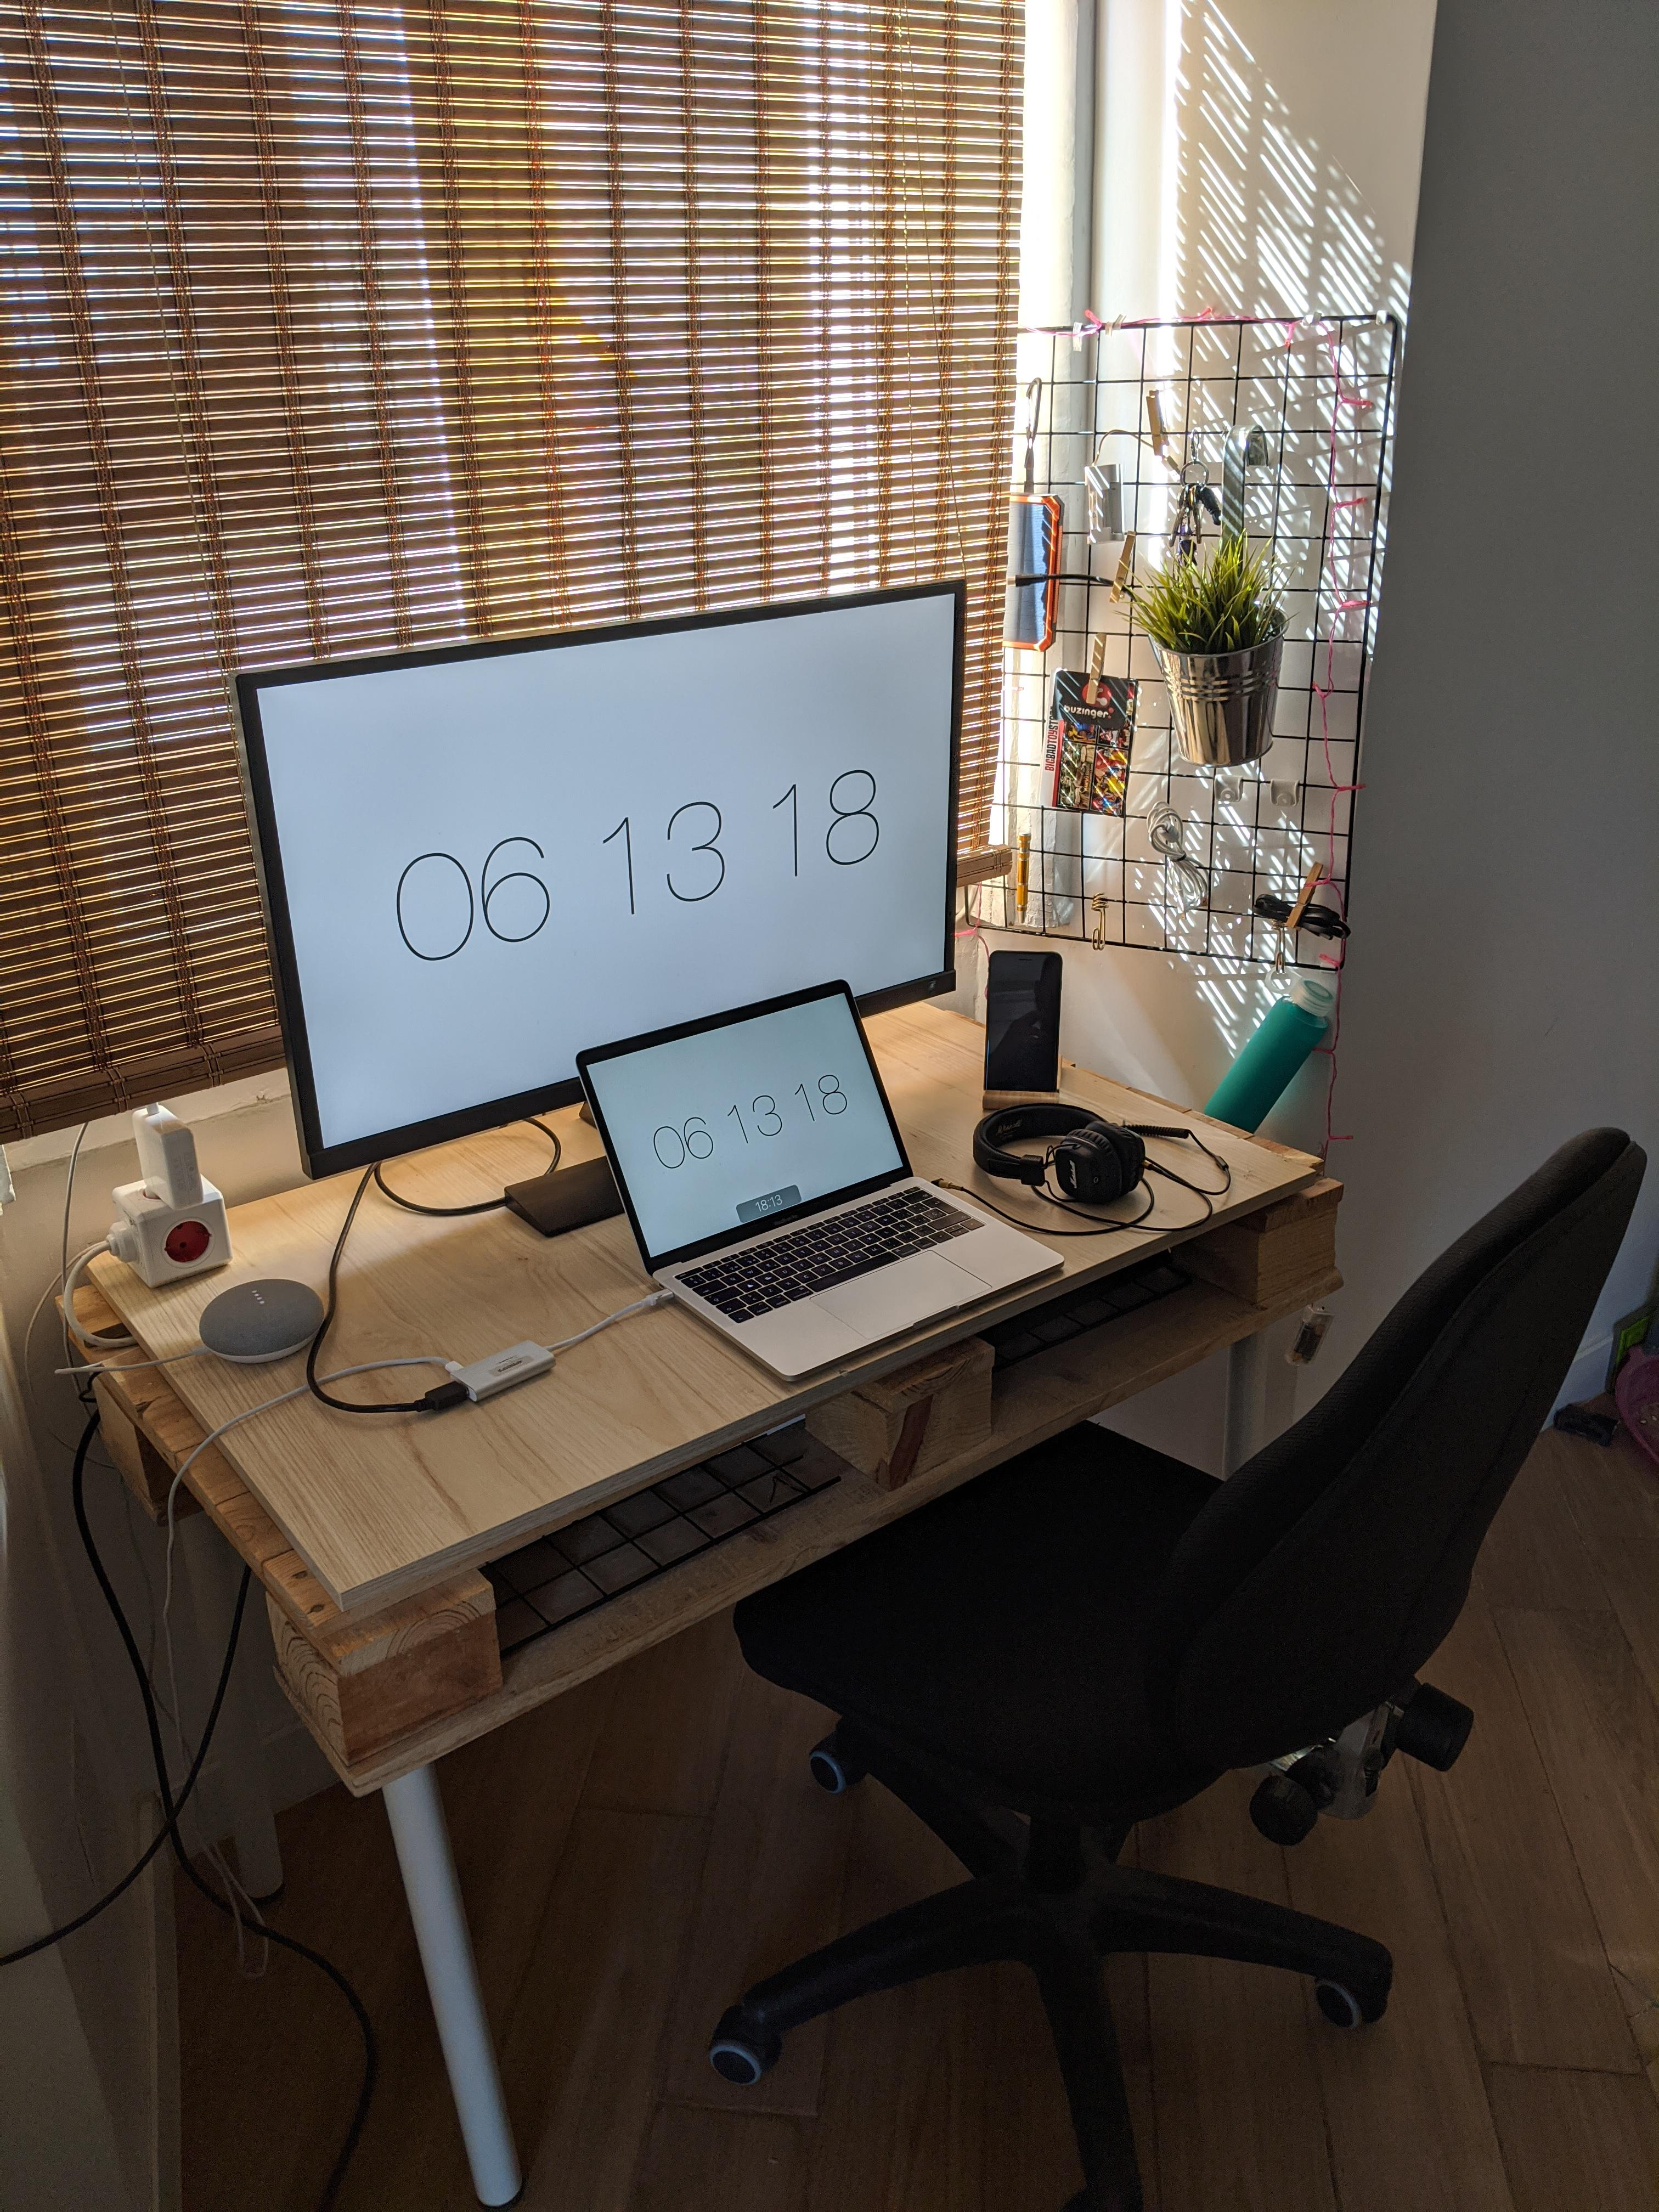Cellphone: (972, 944, 1066, 1096)
Cellphone Charger (Wireless): (193, 1268, 333, 1369)
Chair (Generic): (687, 1123, 1659, 2191)
Decoration (Plant): (1124, 528, 1290, 787)
Desk (Generic): (59, 958, 1370, 2202)
Headphones: (955, 1064, 1204, 1235)
Laptop (OSX): (556, 972, 1080, 1374)
Monitor (Landscape): (185, 568, 972, 1191)
Water Bottle: (1195, 968, 1337, 1137)
